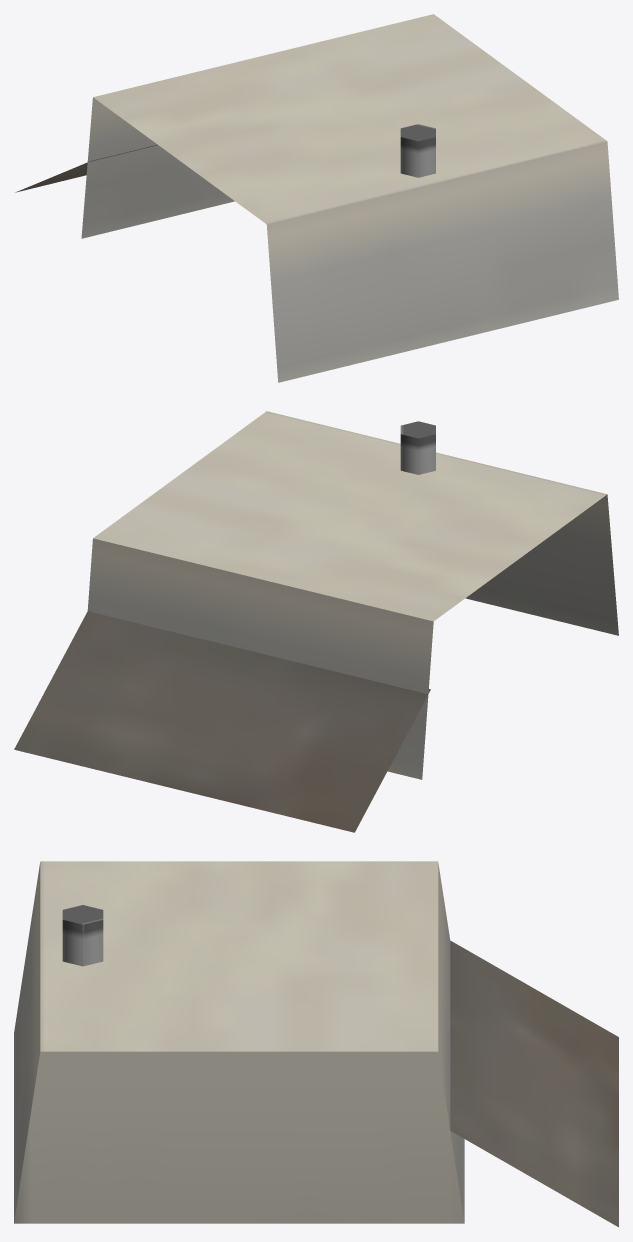
File: Coach_Building_Pier_add_01_Mod.fbx
The picture shows the model from 3 angles, top to bottom: view 1: azimuth 30°, elevation 25°; view 2: azimuth 150°, elevation 25°; view 3: azimuth 270°, elevation 25°; orthographic projection. The views are drawn at different scales.
Visible parts, largest first — view 1: Coach_Building_Pier_add_01_Mod; view 2: Coach_Building_Pier_add_01_Mod; view 3: Coach_Building_Pier_add_01_Mod.
Boxes of the visible parts, x1=… form: Coach_Building_Pier_add_01_Mod: x1=15, y1=14, x2=618, y2=382; Coach_Building_Pier_add_01_Mod: x1=14, y1=411, x2=618, y2=832; Coach_Building_Pier_add_01_Mod: x1=14, y1=861, x2=618, y2=1227.
Size of the model in its own units: 400 by 213 by 537.
